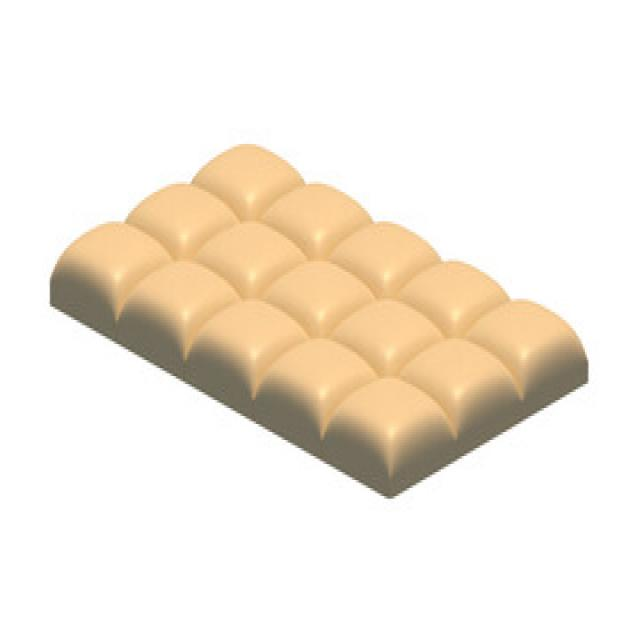chocolate: (50, 136, 588, 492)
